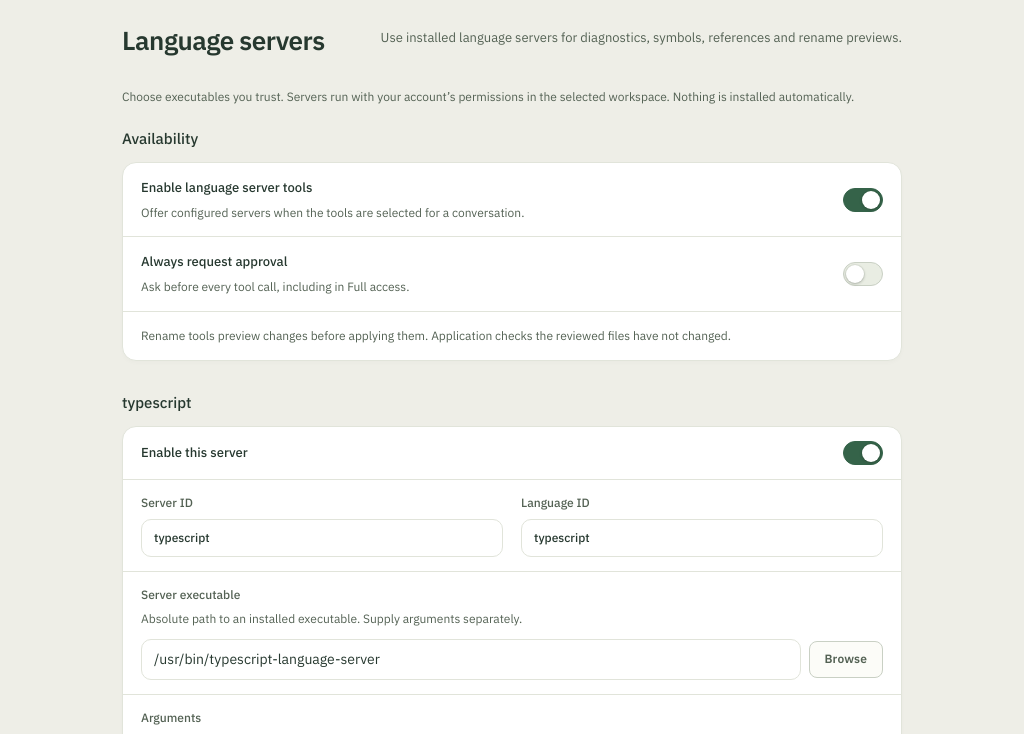
Test: language server settings › saves policy and all server fields without dropping advanced configuration
Click the checkbox labelled "Always request approval": click(863, 274) x1=843 y1=262 x2=883 y2=286
(page scrolled)
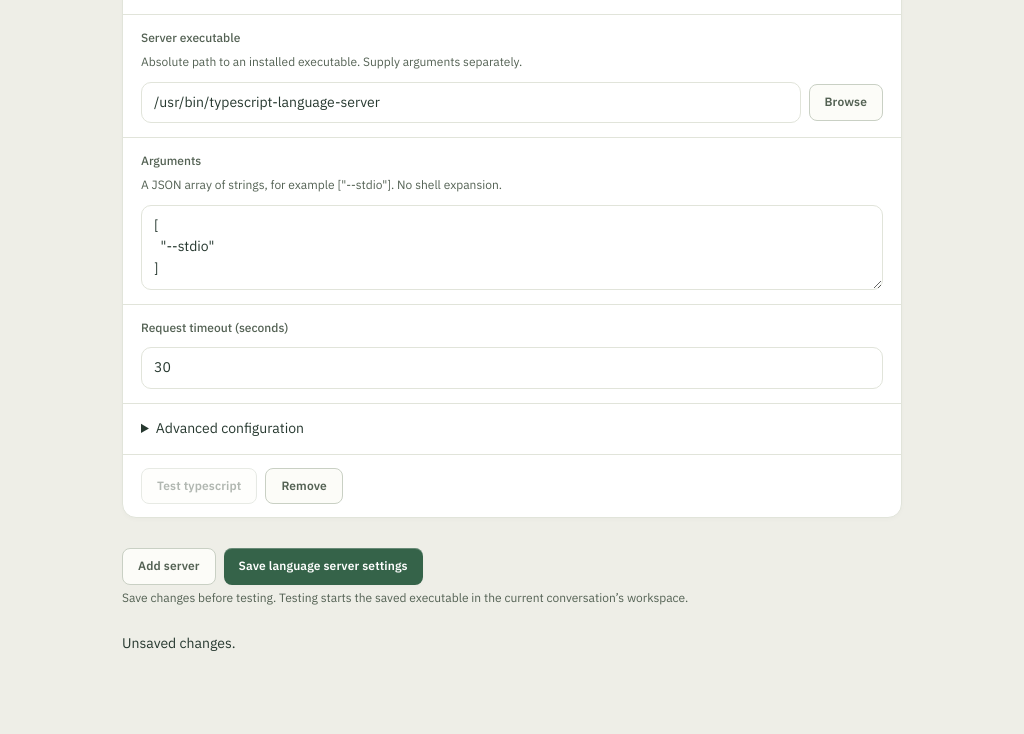
Replace the text in the number field labelled "Request timeout (seconds)" with "15": (512, 368) x1=141 y1=347 x2=883 y2=389
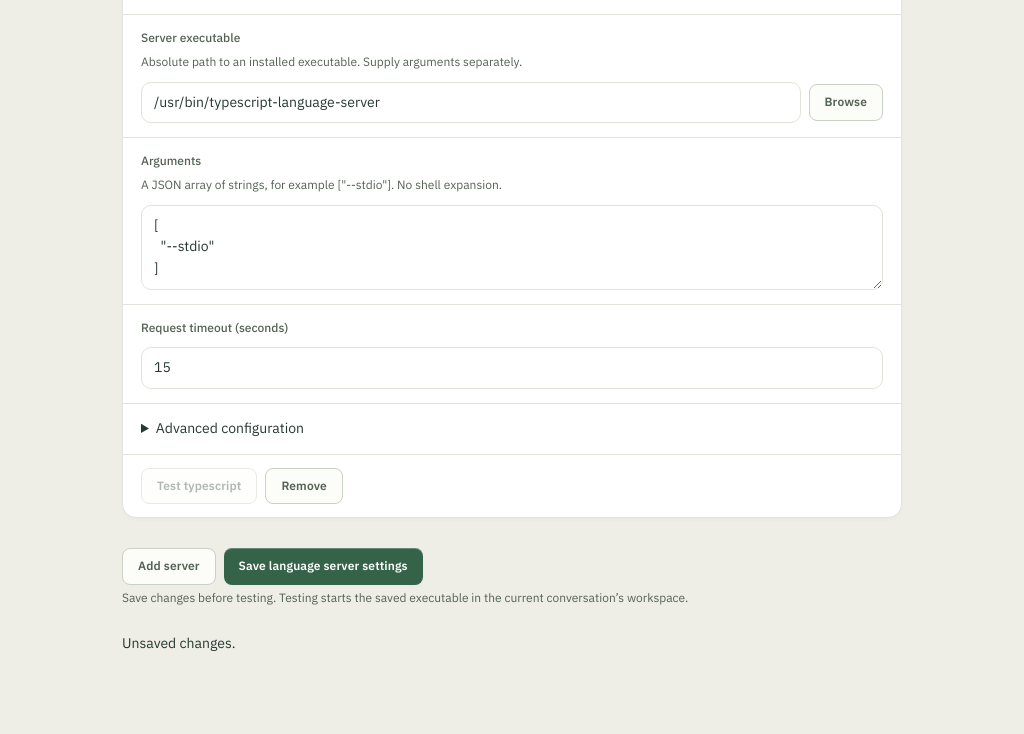
Click the button "Save language server settings": click(323, 566) x1=224 y1=548 x2=423 y2=585
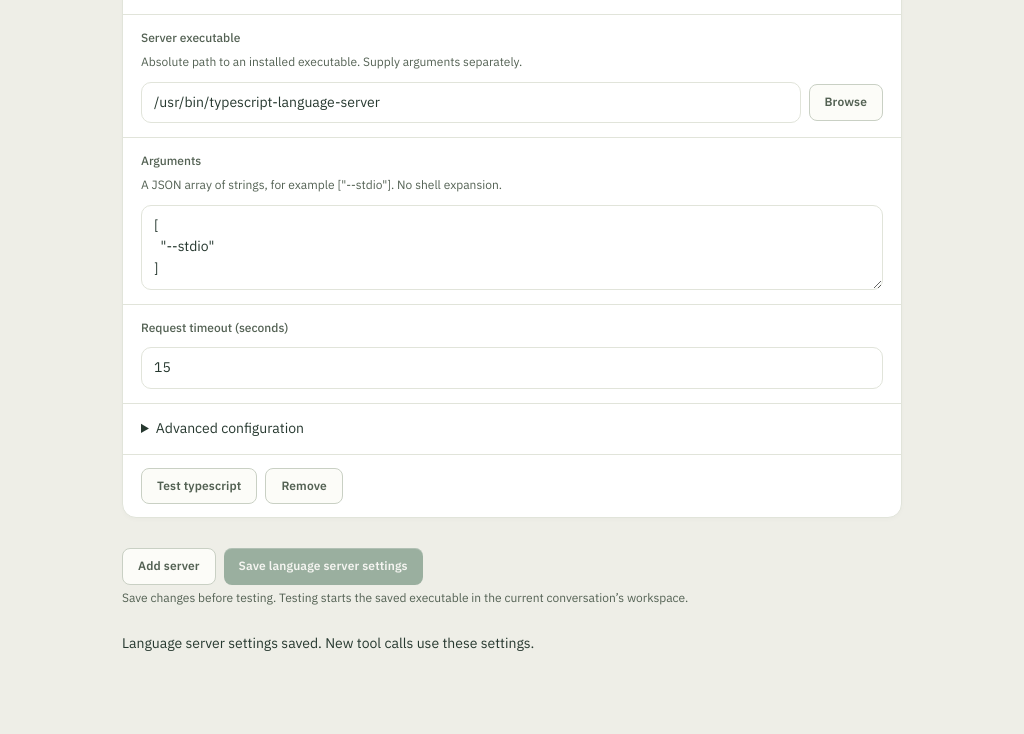
Expected: the text "Language server settings saved. New tool calls use these settings." is shown, x1=122 y1=634 x2=534 y2=652
Expected: the button "Test typescript" is enabled, x1=141 y1=468 x2=257 y2=504
